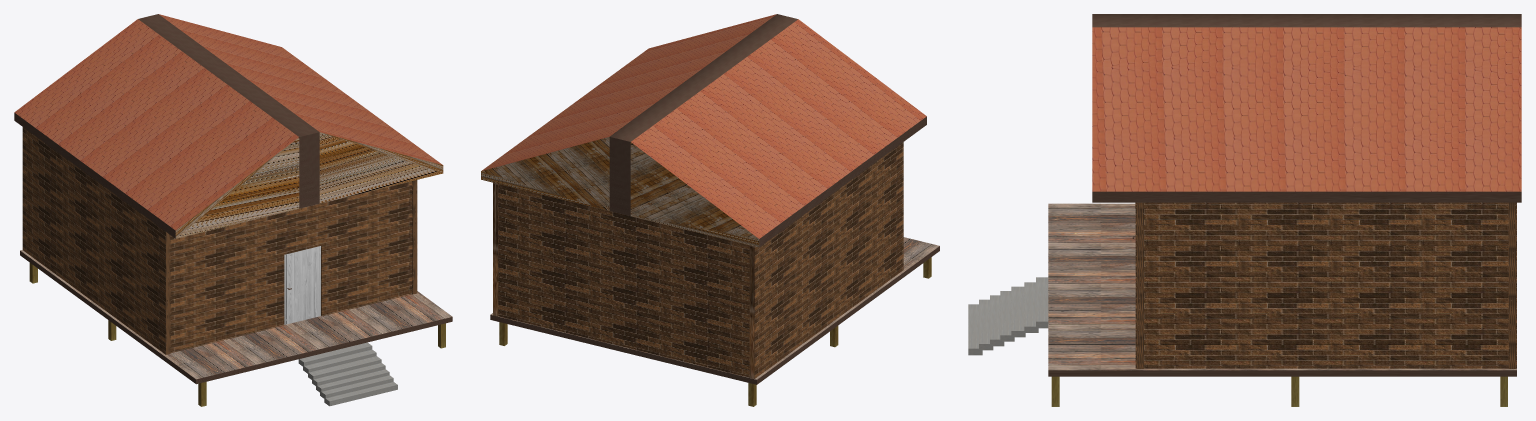
Rendered from House.fbx.
3 views of the same model, side by side, from view 1: azimuth 30°, elevation 25°; view 2: azimuth 150°, elevation 25°; view 3: azimuth 270°, elevation 25° (orthographic). The views are drawn at different scales.
Visible parts, largest first — view 1: House, Door; view 2: House; view 3: House.
Part boxes in pixels (<box>): House: <box>14,14,452,406</box>; Door: <box>284,246,320,324</box>; House: <box>481,14,939,406</box>; House: <box>968,14,1521,406</box>.
Bounding box in the file's own units: 863 × 712 × 1161.
9 materials, 8 textured.
